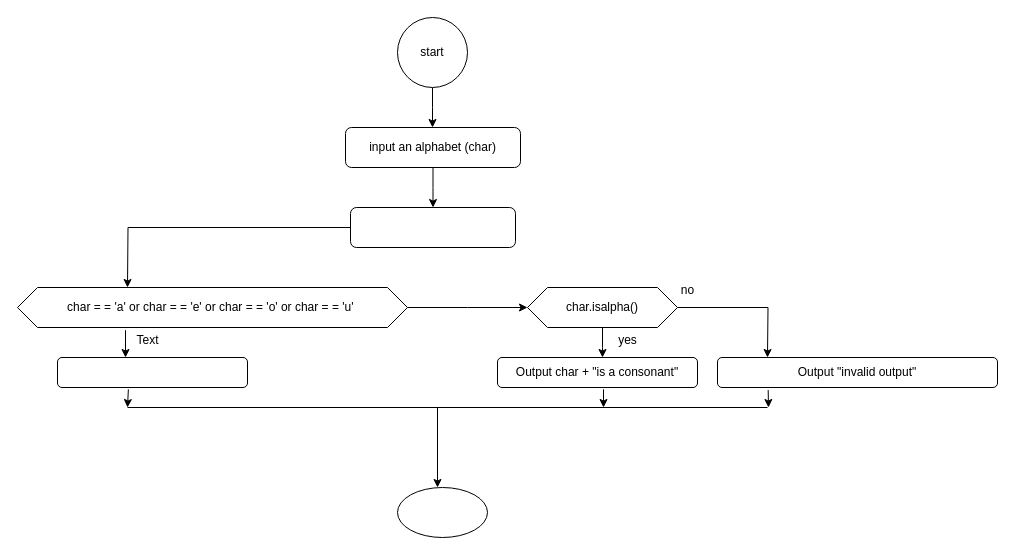
Some shapes in this 1015 by 555 pixel diagram are drawn without their labels. The centre of each missing label's shape, as x and y in pixels:
char = char.lower(): point (433, 227)
end: point (442, 512)
Output char + "is a vowel": point (152, 372)
